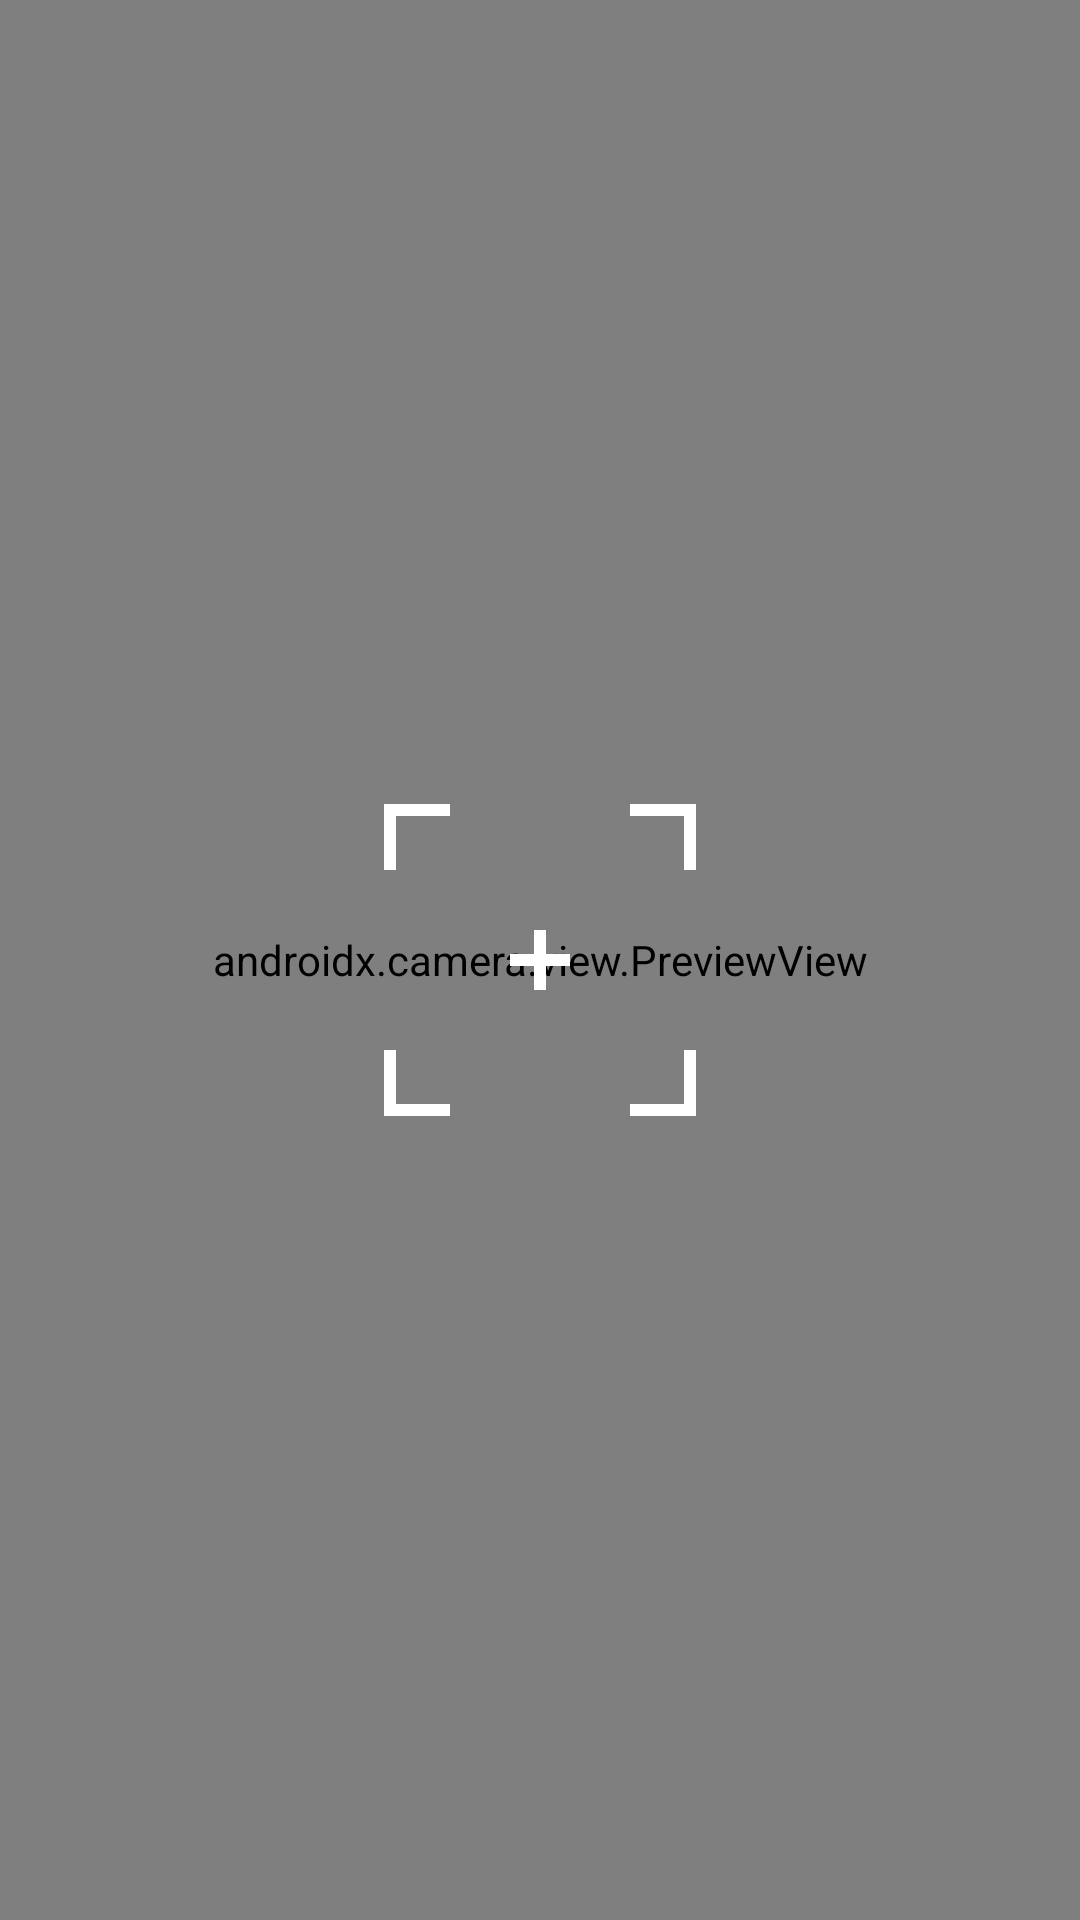

Locate icon controls on the screen. Image size 1080 × 1920, boxes as box(x1, y1, x2, y2).
ar reticle: box(360, 804, 720, 1116)
